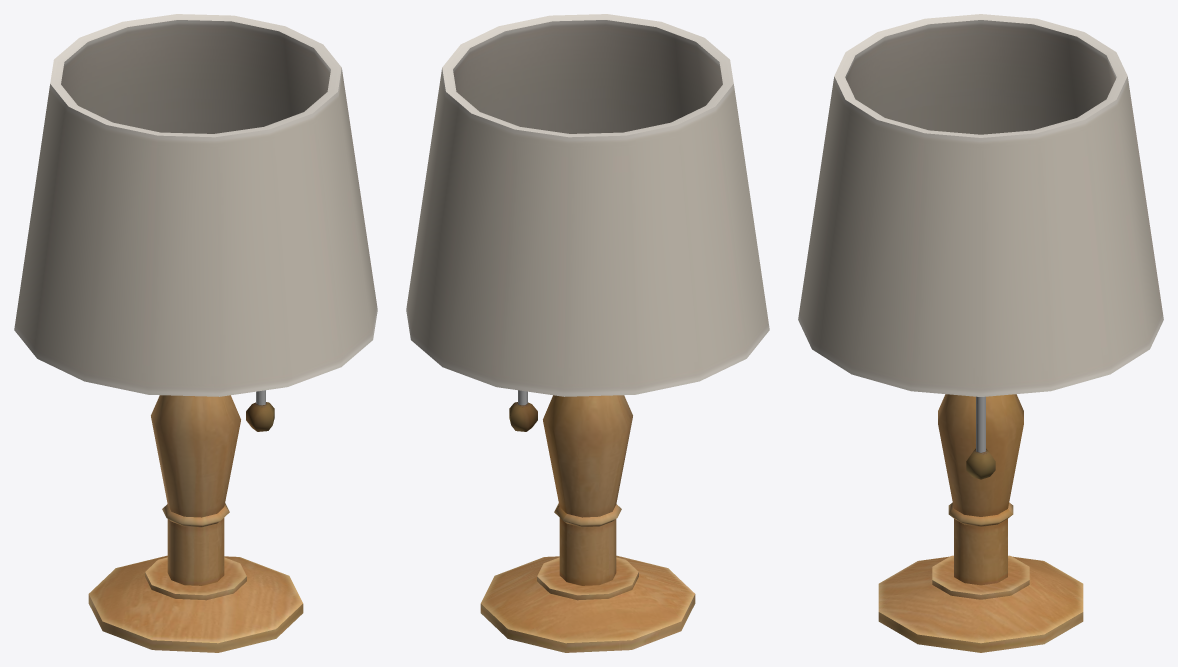
The picture shows the model from 3 angles, left to right: view 1: azimuth 30°, elevation 25°; view 2: azimuth 150°, elevation 25°; view 3: azimuth 270°, elevation 25°; orthographic projection.
Visible parts, largest first — view 1: table_lamp; view 2: table_lamp; view 3: table_lamp.
Boxes of the visible parts, x1=… form: table_lamp: x1=14, y1=14, x2=377, y2=652; table_lamp: x1=406, y1=14, x2=769, y2=652; table_lamp: x1=798, y1=14, x2=1163, y2=652.
Bounding box in the file's own units: 0.34 × 0.545 × 0.34.
1 material, 1 textured.
